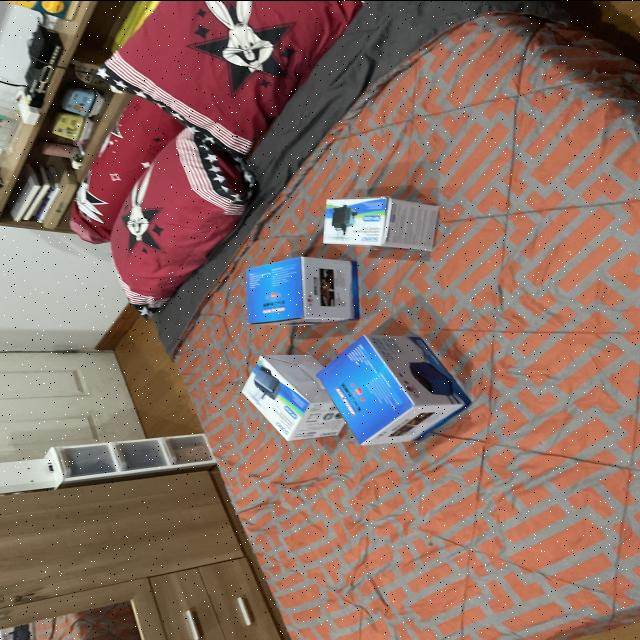SOBO_WP_4200: (224, 342, 354, 456), (316, 186, 448, 254)
YAMANO_LPP_20: (314, 325, 476, 461), (221, 235, 364, 335)
